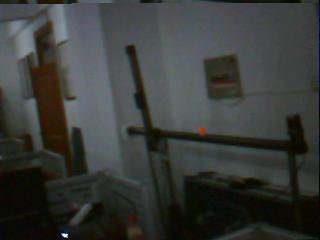oball: (197, 126, 205, 136)
